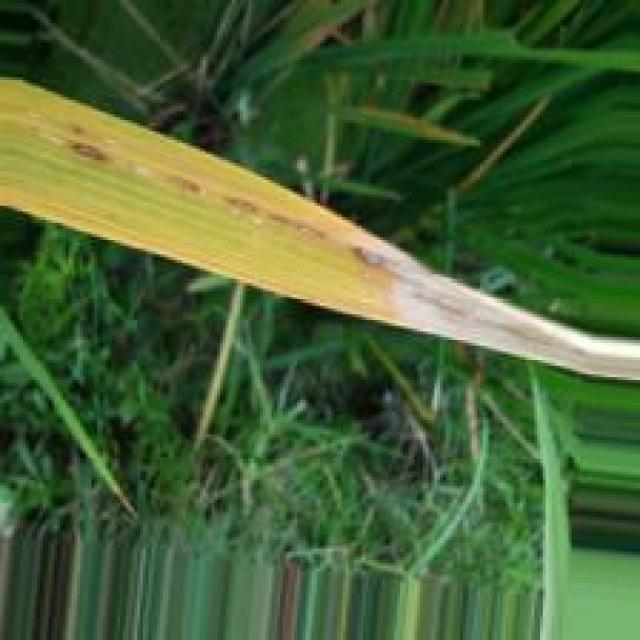Leaf_Scald: (348, 237, 638, 380), (64, 136, 335, 249)
